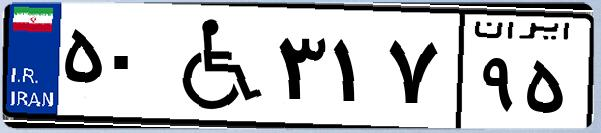0: (110, 28, 158, 98)
1: (330, 28, 385, 110)
3: (270, 28, 330, 110)
5: (57, 26, 110, 100), (525, 38, 570, 115)
7: (385, 28, 445, 110)
9: (475, 38, 525, 113)
ژ (معلولین و جانبازان): (158, 12, 270, 120)
